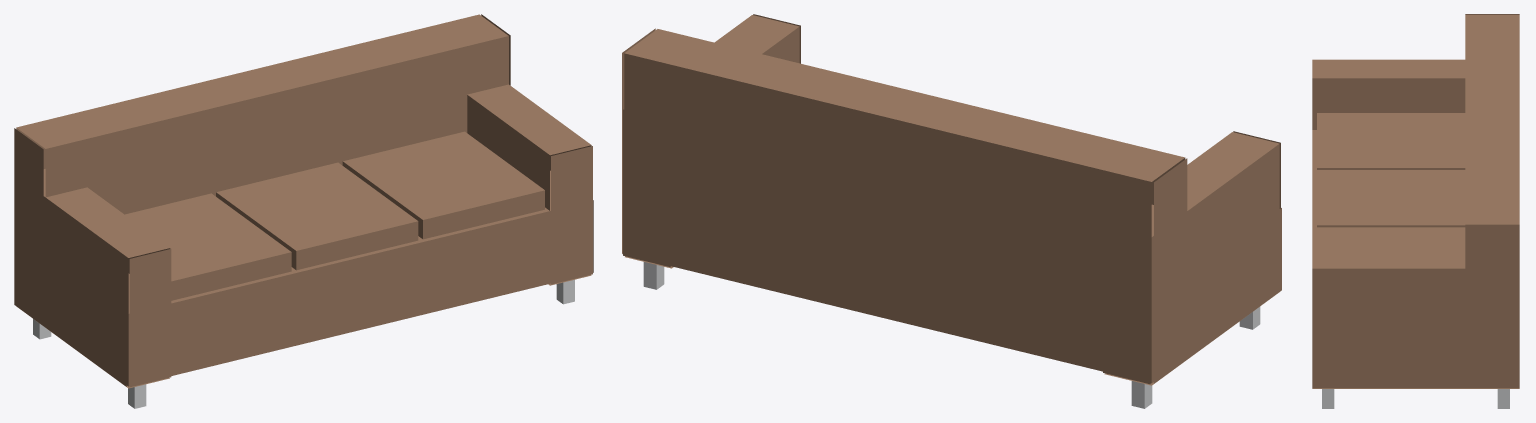
Rendered from Sofa_3.fbx.
3 renders of one model, left to right at view 1: azimuth 30°, elevation 25°; view 2: azimuth 150°, elevation 25°; view 3: azimuth 270°, elevation 25°, orthographic. The views are drawn at different scales.
Visible parts, largest first — view 1: Sofa_3; view 2: Sofa_3; view 3: Sofa_3.
Boxes of the visible parts, bbox=[...] form: Sofa_3: bbox=[14, 14, 593, 408]; Sofa_3: bbox=[622, 14, 1281, 408]; Sofa_3: bbox=[1312, 14, 1519, 408].
Size of the model in its own units: 2.02 by 0.85 by 0.856.
